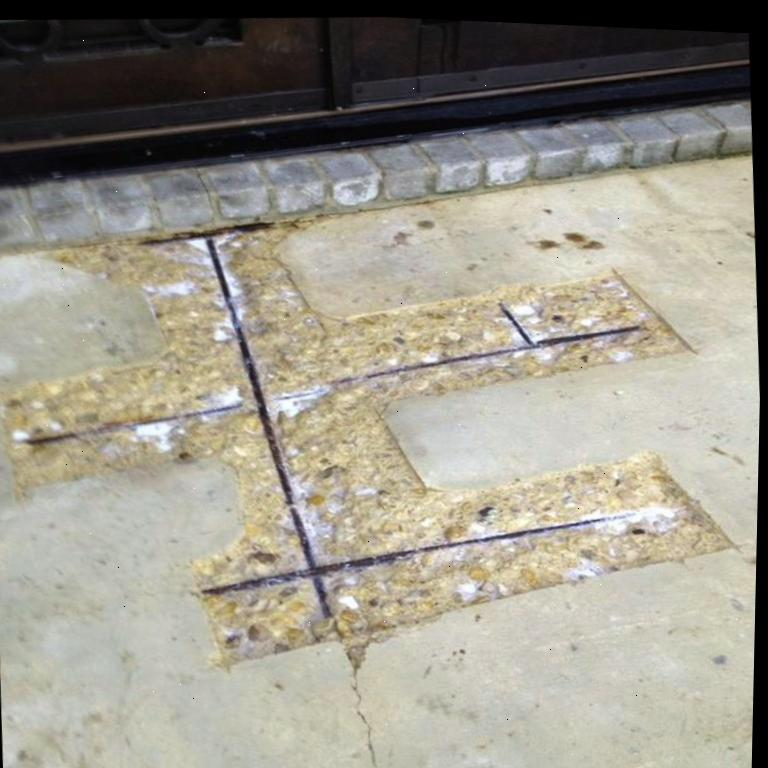exposed_rebar: (200, 237, 643, 617), (396, 302, 640, 374), (10, 403, 242, 443), (207, 386, 215, 394)
spalling: (0, 218, 729, 663)
